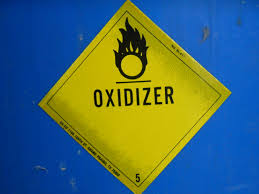Oxidizer: (39, 1, 233, 193)
